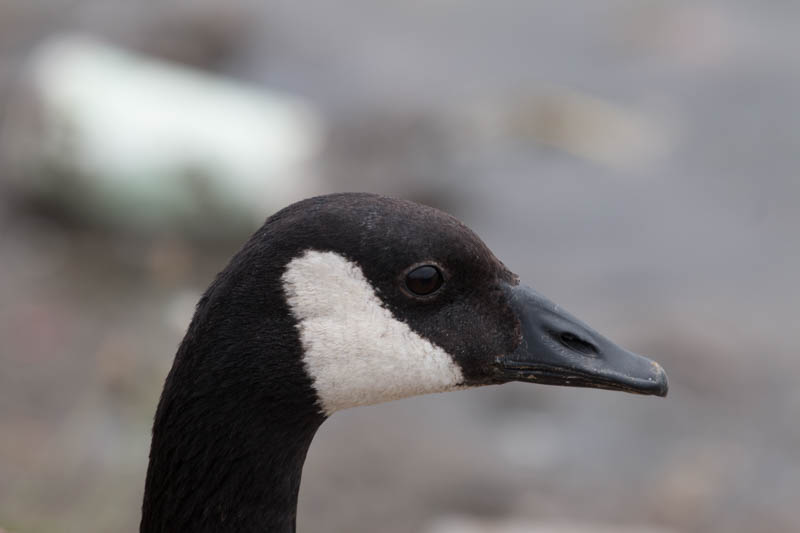goose-head: (157, 191, 669, 415)
